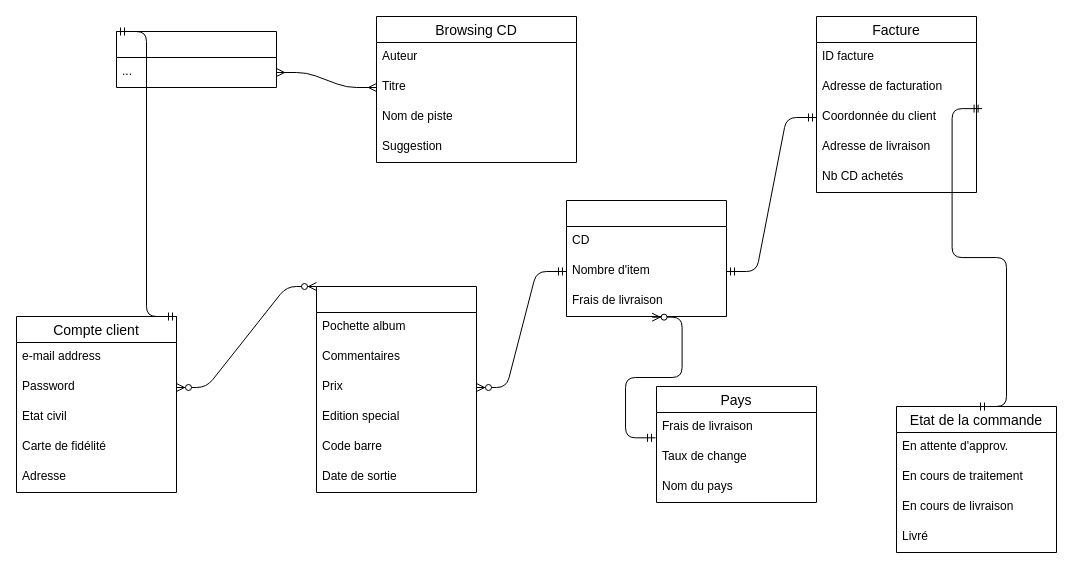
Some shapes in this 1073 by 569 pixel diagram are drawn without their labels. The box of each missing label's shape, as (x1, y1, x2, y2) in pixels:
Cart: (566, 200, 726, 316)
CD Catalog: (316, 286, 476, 492)
Visiteurs: (116, 30, 276, 88)
